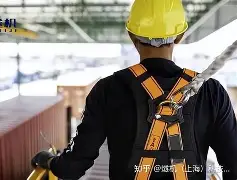safety belt: (119, 66, 196, 177)
